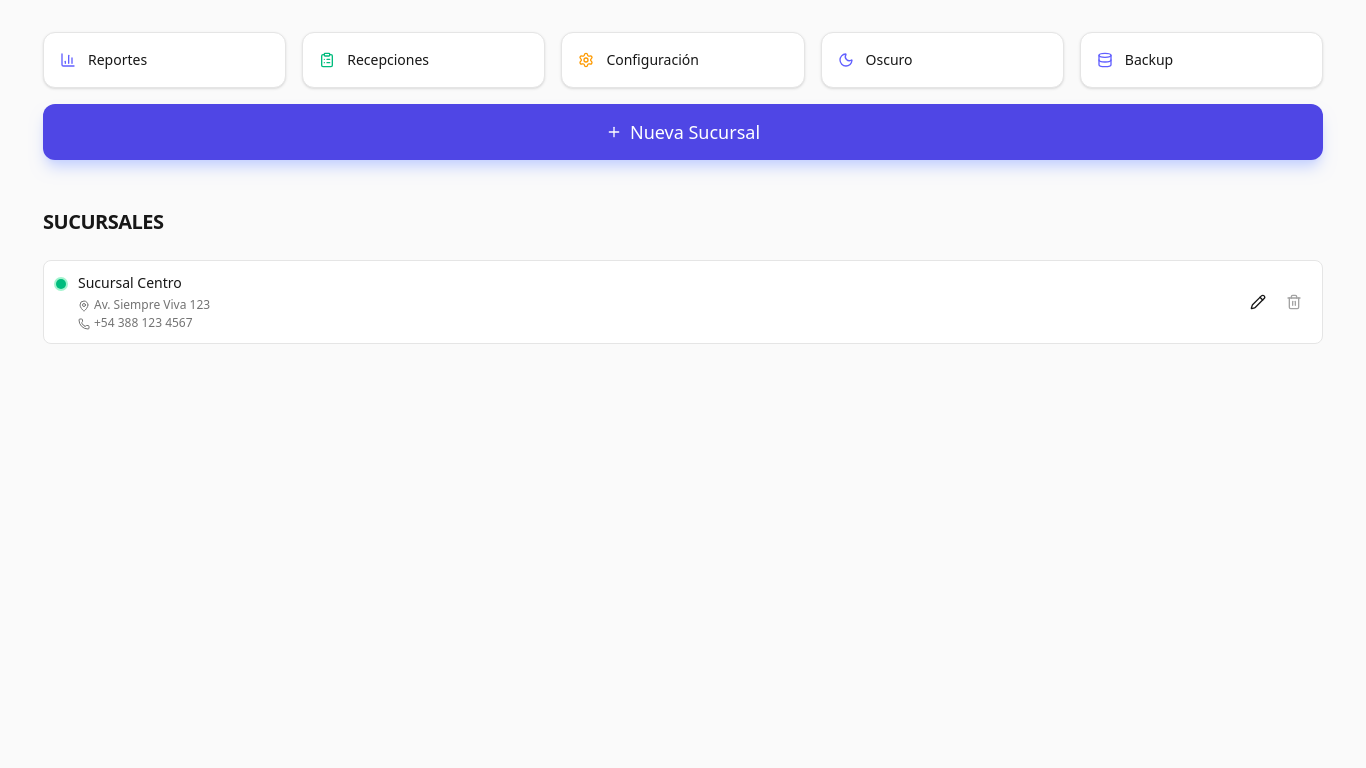
Test: BranchList › should close delete modal on overlay click
Expected: the text "Sucursal Centro" is shown, [78,273,182,292]
Click the button with test id "delete-button" at (1294, 302), box [1278,286,1310,318]
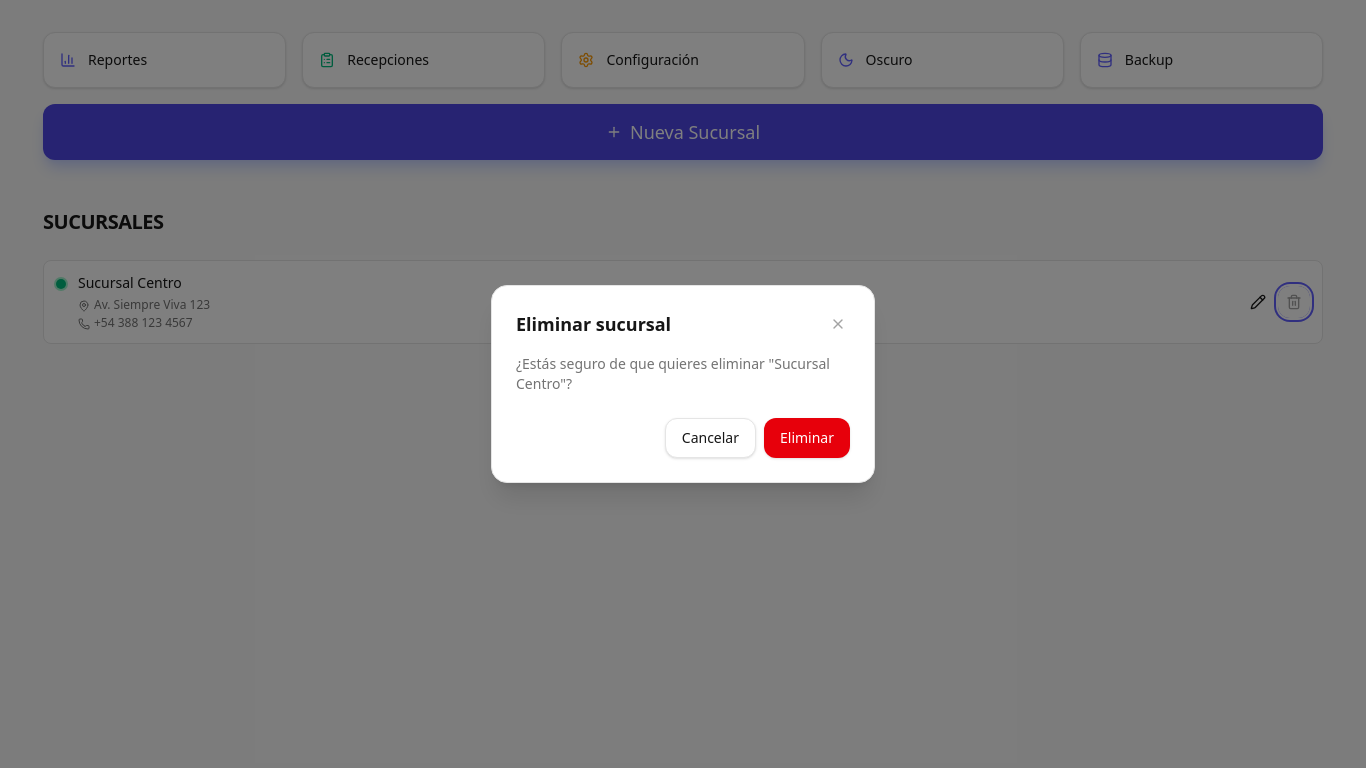
Now the text "¿Estás seguro de que quieres eliminar \"Sucursal Centro\"?" is shown, box [516,354,850,394]
Press Escape
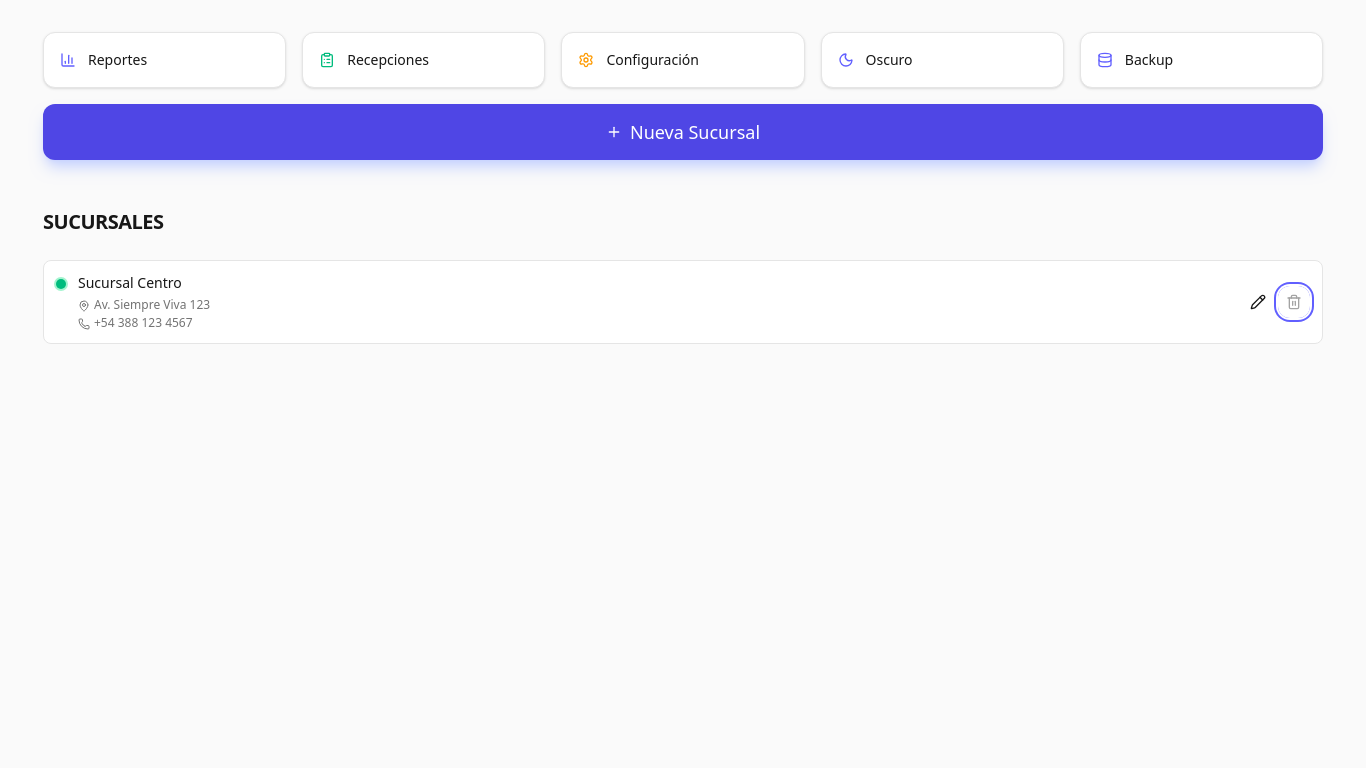
Now the text "¿Estás seguro de que quieres eliminar" is gone
